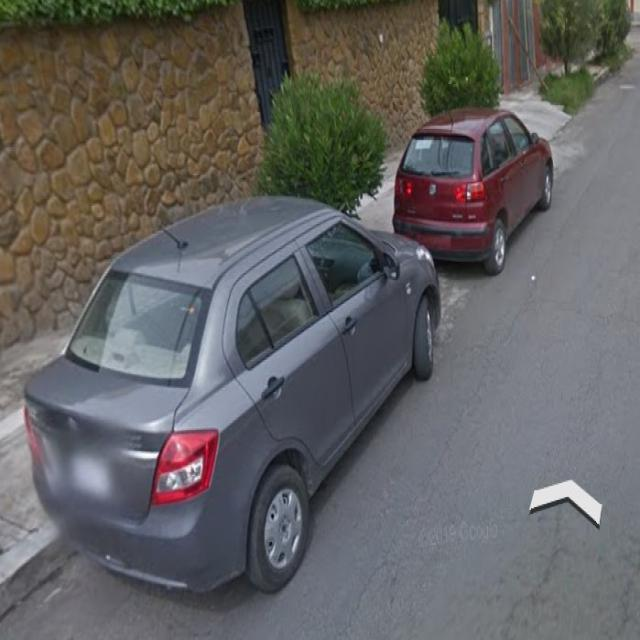Car: (28, 210, 434, 592), (406, 81, 560, 245)
